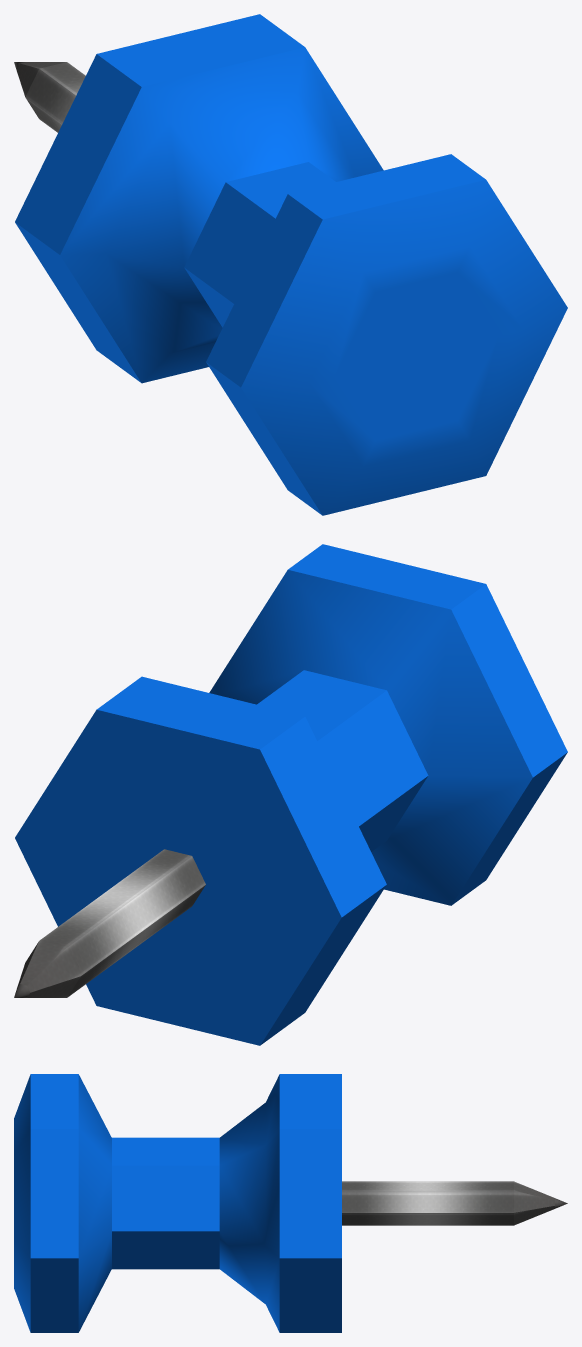
File: Tack_H.FBX
3 views of the same model, one above another, from view 1: azimuth 30°, elevation 25°; view 2: azimuth 150°, elevation 25°; view 3: azimuth 270°, elevation 25° (orthographic). The views are drawn at different scales.
Parts seen in each view (by area): view 1: Tack; view 2: Tack; view 3: Tack.
Part boxes in pixels (x1,y1,x2,y2): Tack: (14,14,567,515); Tack: (14,544,567,1045); Tack: (14,1074,567,1332).
Bounding box in the file's own units: 6.28 × 5.43 × 13.38.
